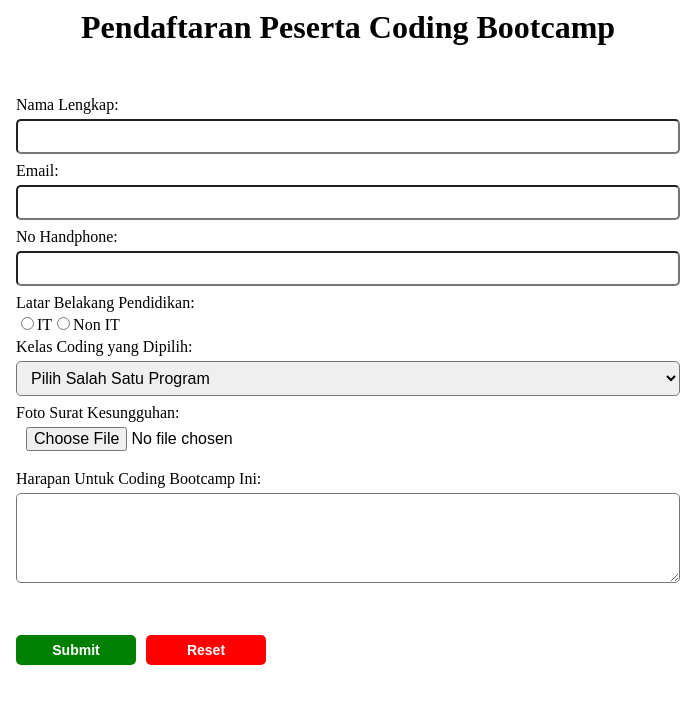
Test: Form › Cek Error
Step 1. Type "woy" into the field labelled "Email:" → (348, 203), box [16,185,680,220]
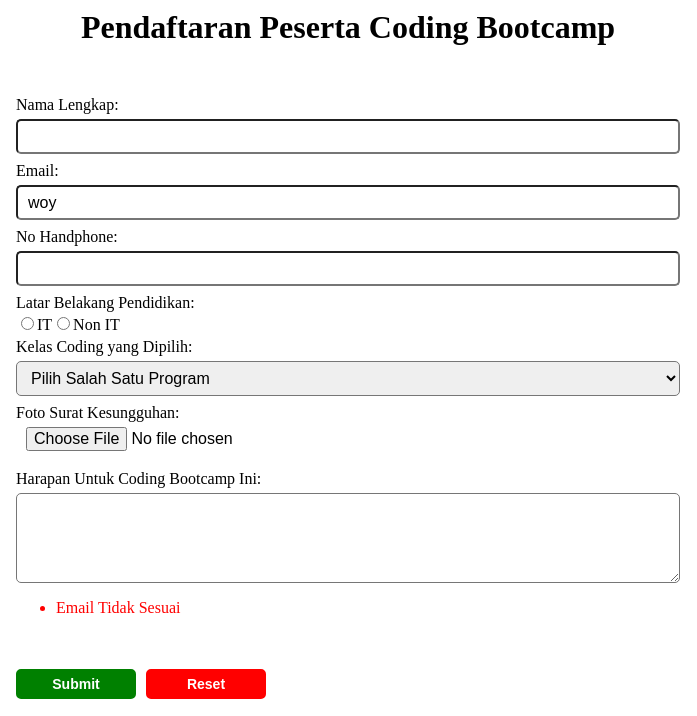
Expected: the list item "Email Tidak Sesuai" is shown, [56,599,180,616]
